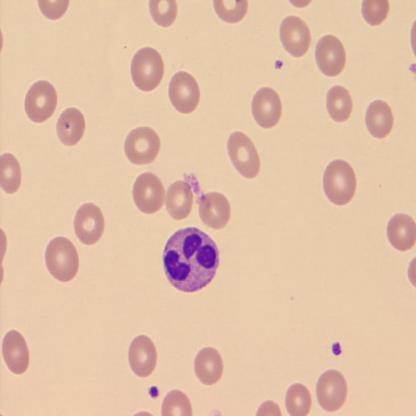Segmented neutrophil: (160, 223, 220, 294)
